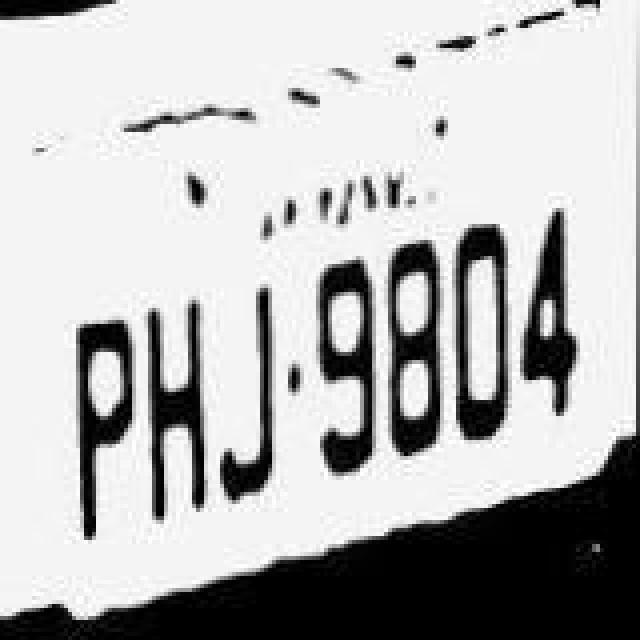4: (520, 184, 596, 448)
8: (378, 226, 450, 498)
9: (306, 234, 378, 514)
H: (144, 270, 220, 542)
J: (214, 266, 286, 530)
O: (446, 200, 518, 476)
P: (62, 282, 142, 550)
